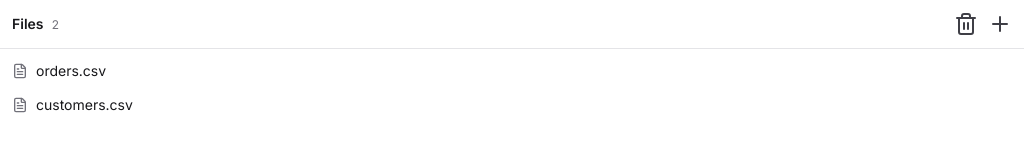
Scenario: FilesPanel › renames in place on double-click, keeping the extension, and shows a refusal
Later steps or results of the test are not shown.
Double-click the text "orders.csv" at coordinates (71, 70), box [36,62,106,79]
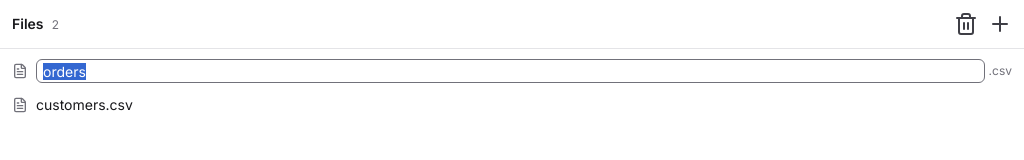
Result: the field named "New name for orders.csv" holds "orders"
Replace the text in the field named "New name for orders.csv" with "customers" at coordinates (510, 71), box [36,59,985,83]
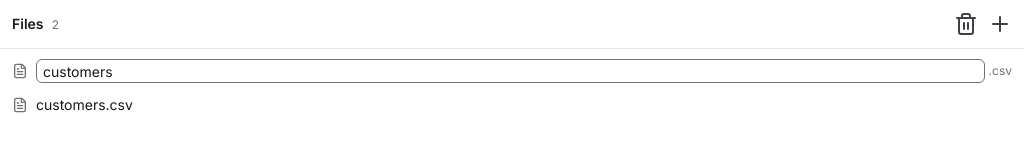
Press Enter in the field named "New name for orders.csv", box [36,59,985,83]
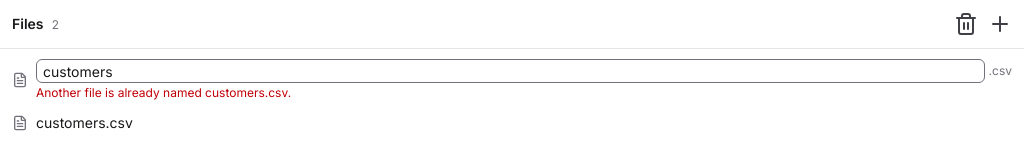
Result: the message shows "already named" at [36,85,291,100]
